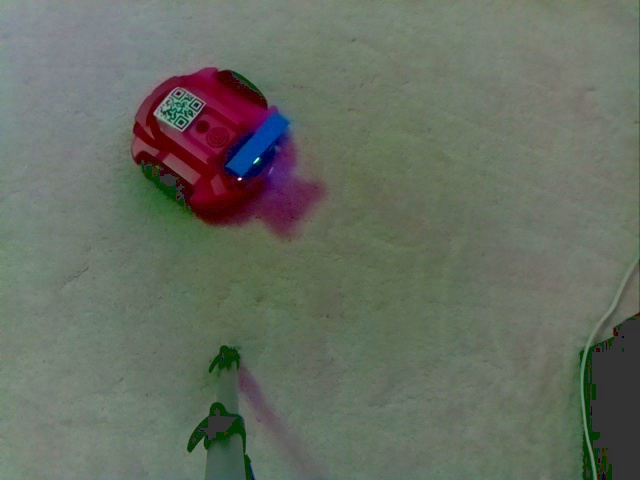board: (223, 103, 291, 181)
chassis: (125, 61, 289, 217)
